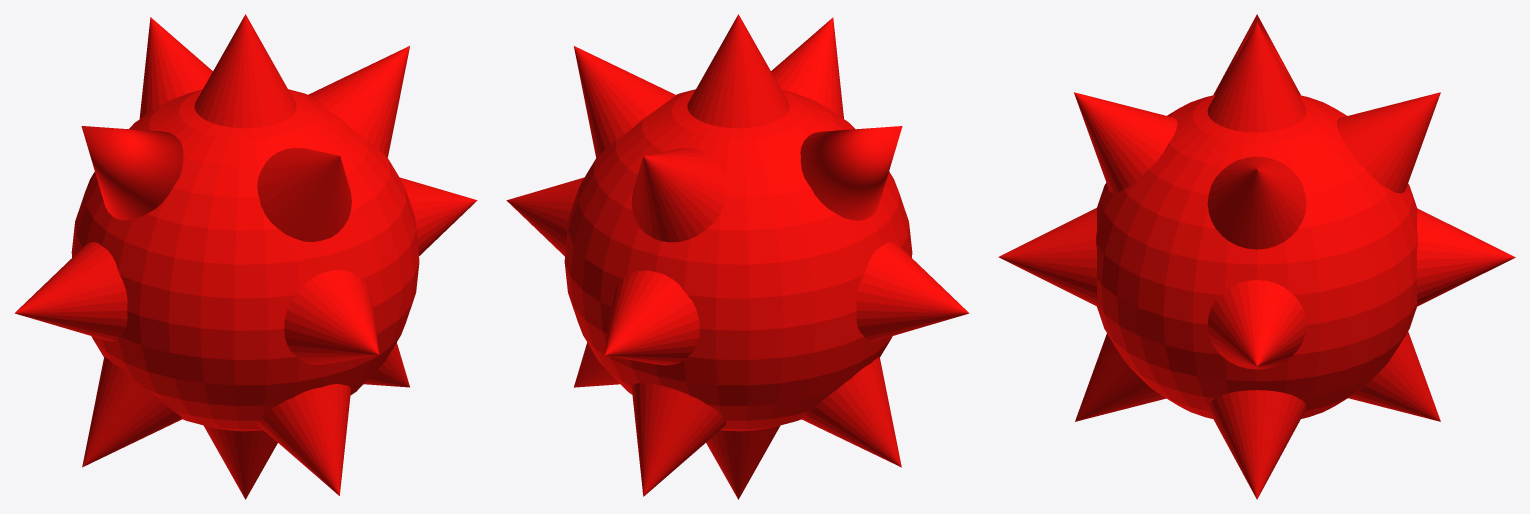
File: Bomb.fbx
The picture shows the model from 3 angles, left to right: view 1: azimuth 30°, elevation 25°; view 2: azimuth 150°, elevation 25°; view 3: azimuth 270°, elevation 25°; orthographic projection. The views are drawn at different scales.
Parts seen in each view (by area): view 1: Cone.013; view 2: Cone.013; view 3: Cone.013.
Boxes of the visible parts, box(x1,y1,x2,y2) form: Cone.013: box(14, 14, 477, 499); Cone.013: box(506, 14, 969, 499); Cone.013: box(998, 14, 1515, 499).
Size of the model in its own units: 1.54 by 1.54 by 1.54.
